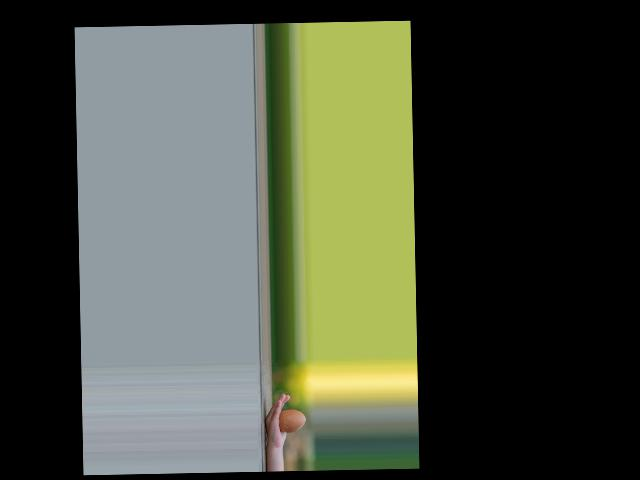egg: (278, 409, 305, 433)
